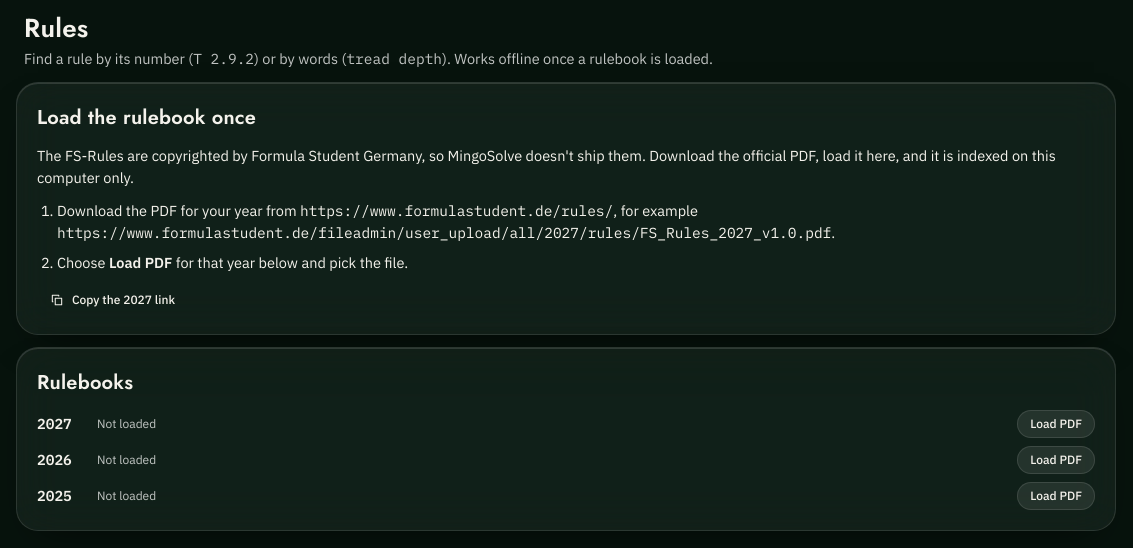
Scenario: Rules view › loading a PDF sends the picked file and year, then switches to search
Click the button with aria-label "Load the 2027 PDF": (1056, 424) [1017,410,1095,438]
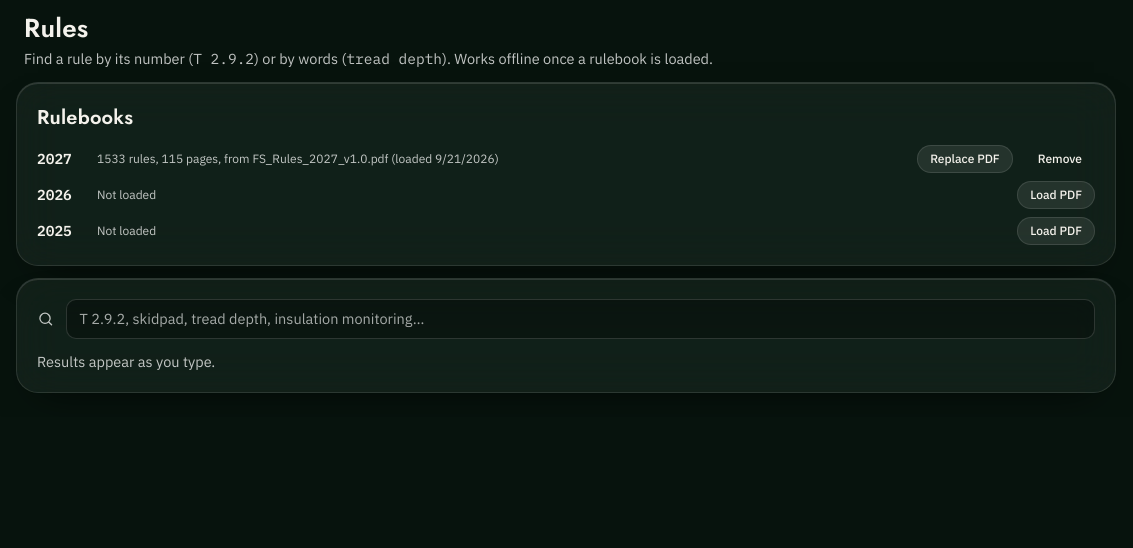
Result: the search field named "Search the rules" is shown at [66,299,1095,339]
Result: the heading "Load the rulebook once" is gone
Result: the text "1533 rules, 115 pages" is shown at [97,151,499,166]
